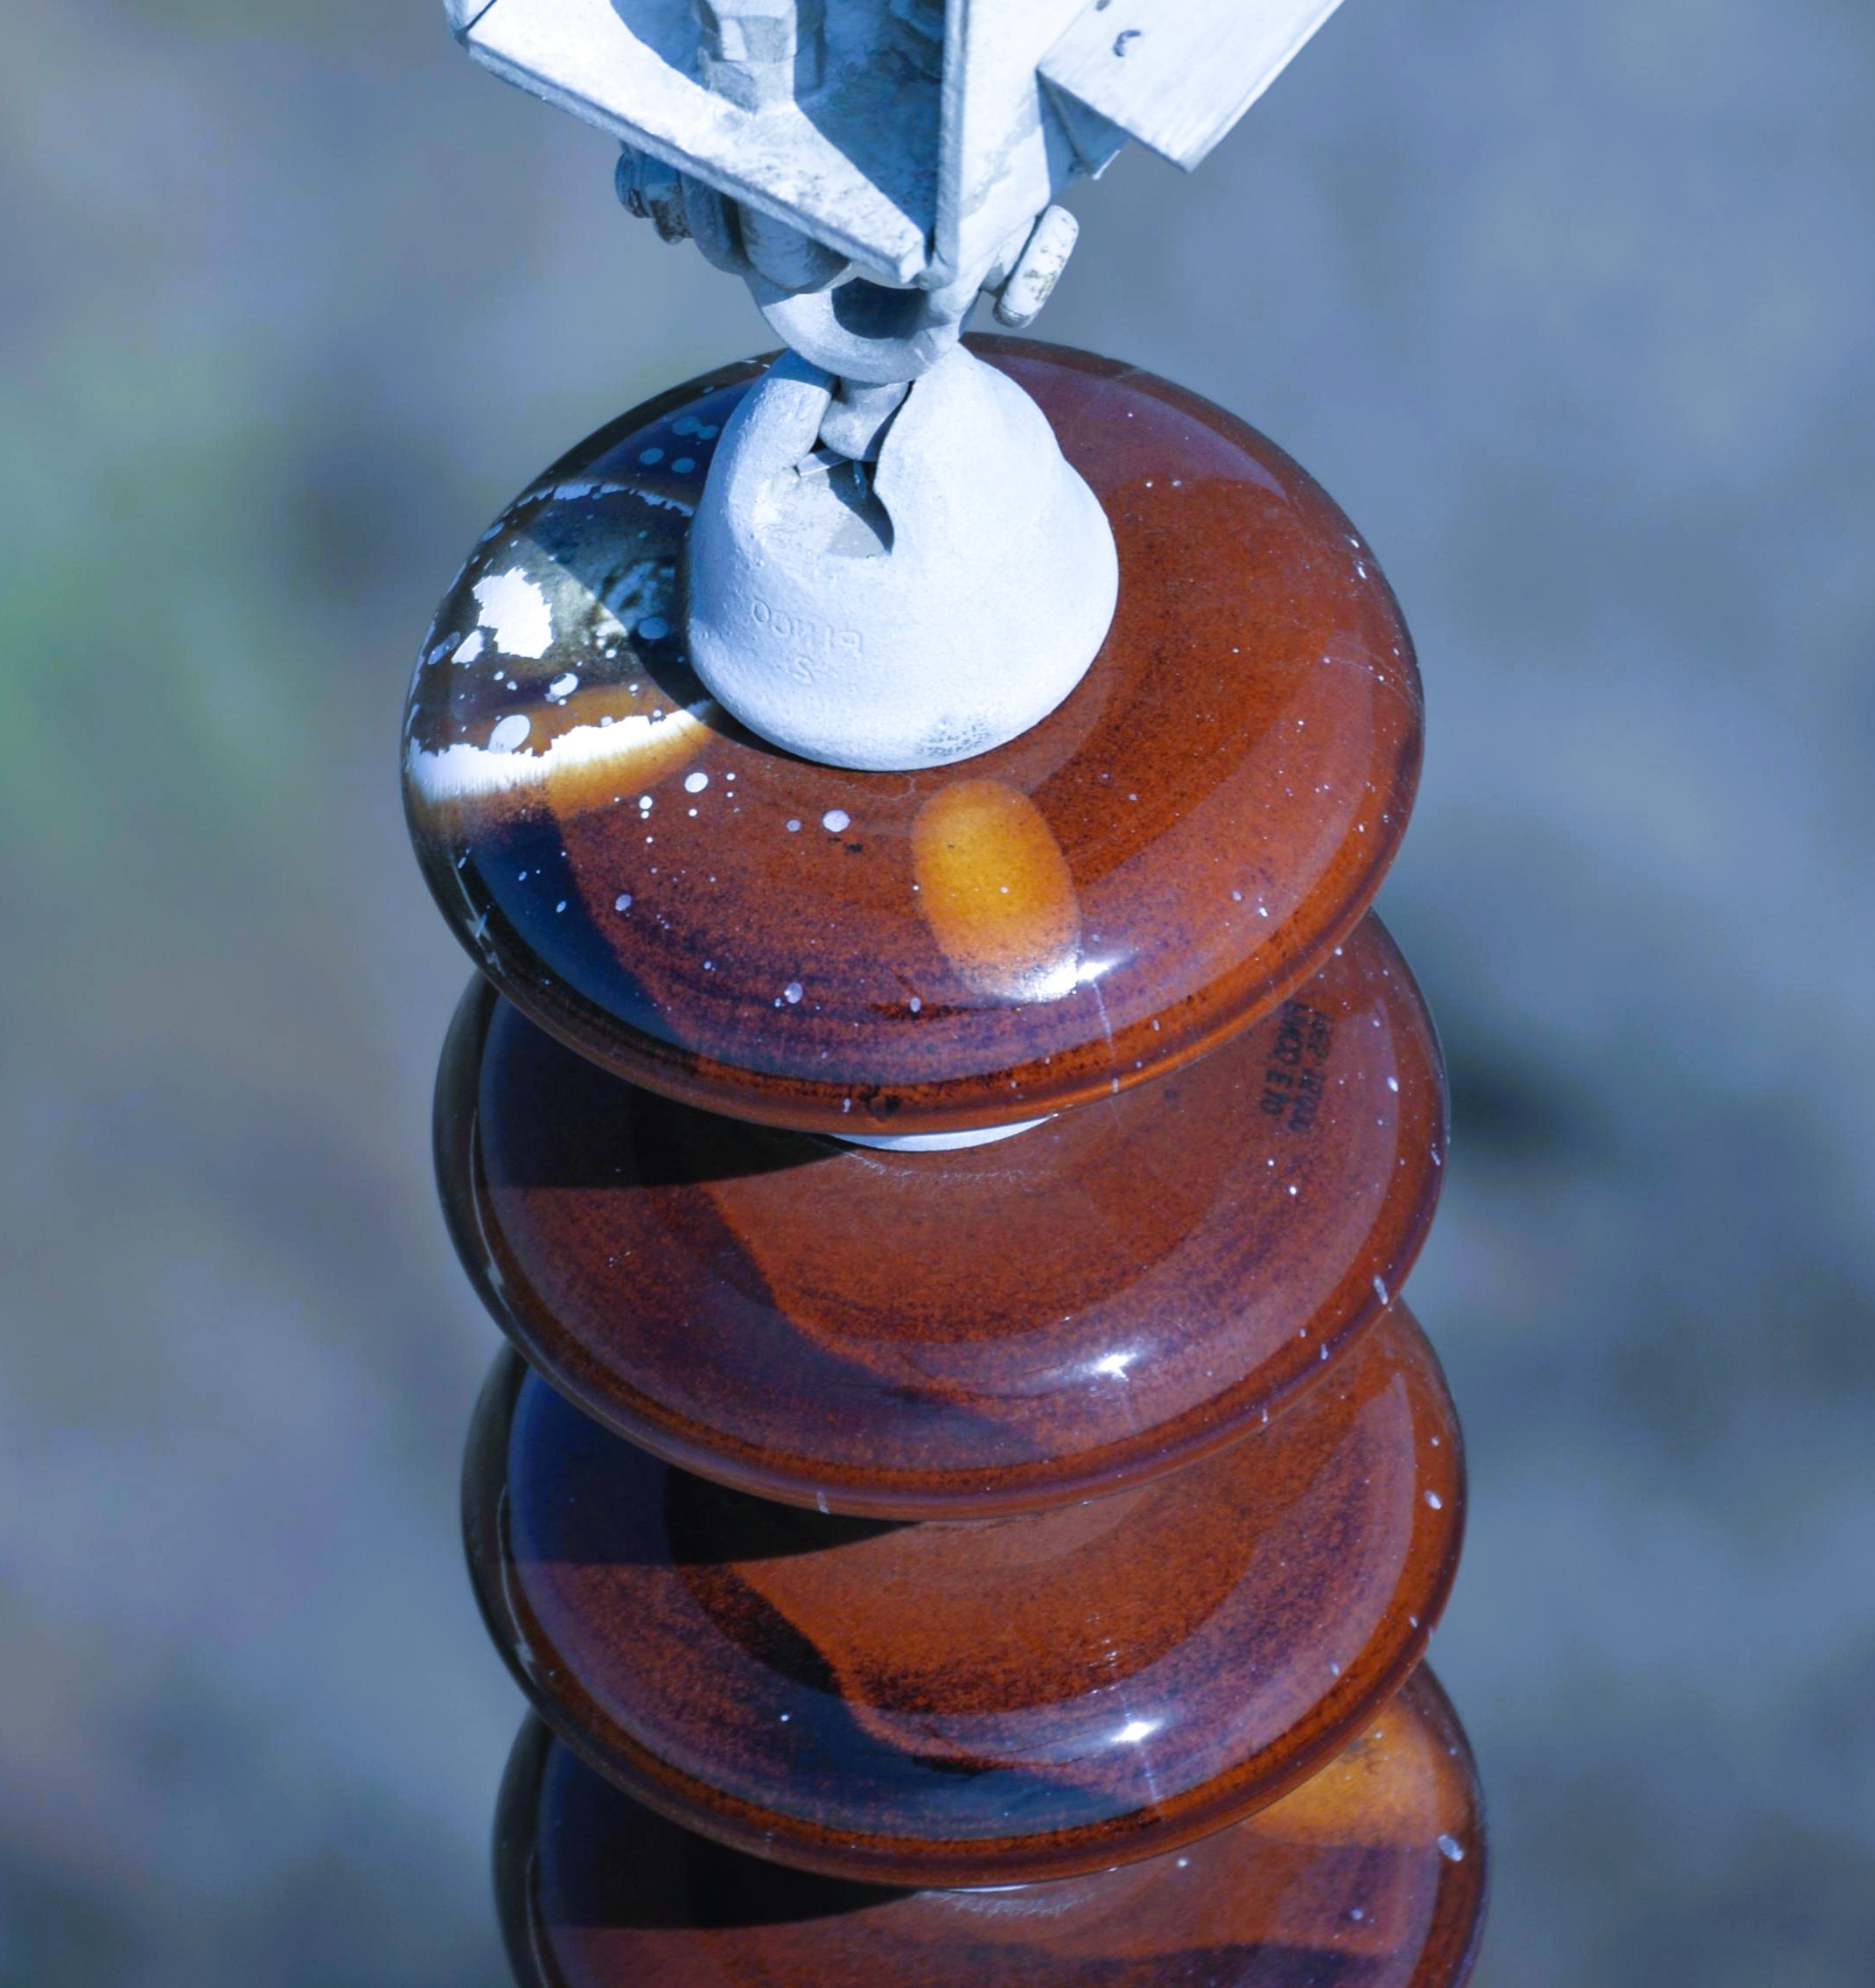Insulator flashover: (372, 303, 1436, 1151)
